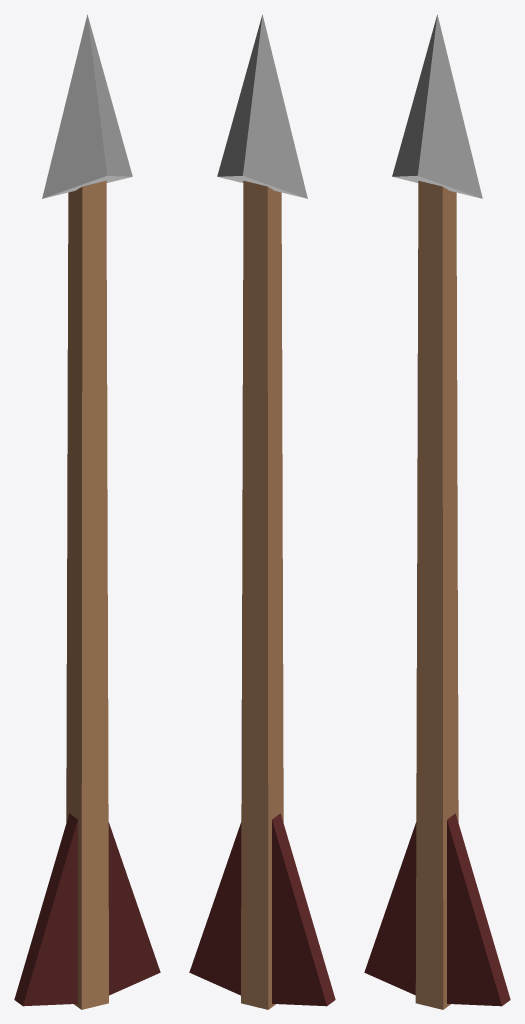
Rendered from Arrow.obj.
3 renders of one model, left to right at view 1: azimuth 30°, elevation 25°; view 2: azimuth 150°, elevation 25°; view 3: azimuth 330°, elevation 25°, orthographic.
Visible parts, largest first — view 1: Arrow; view 2: Arrow; view 3: Arrow.
Boxes of the visible parts, <box> form: Arrow: <box>14,14,160,1009</box>; Arrow: <box>189,14,335,1009</box>; Arrow: <box>364,14,510,1009</box>.
Size of the model in its own units: 0.2003 by 1.37 by 0.099.
Materials: 1 (1 with a texture image).
